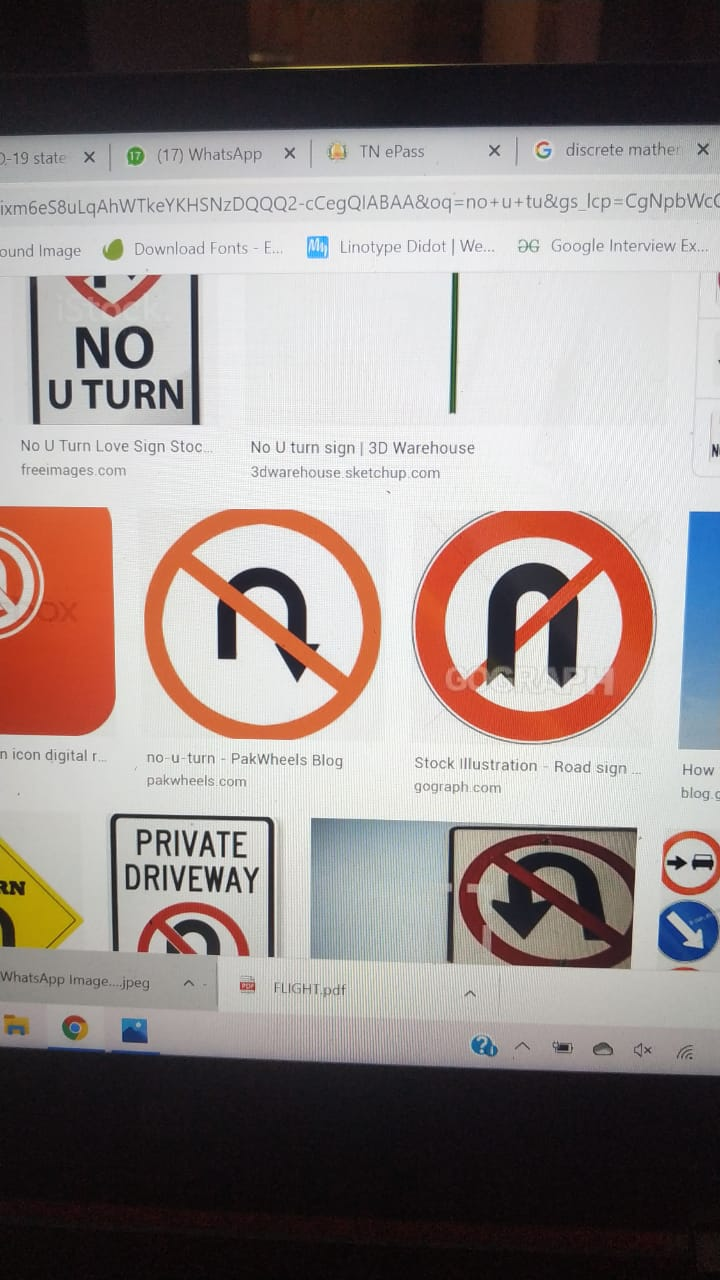NO U-TURN: (374, 463, 658, 761), (133, 487, 372, 763), (447, 823, 659, 977), (43, 226, 201, 415)
